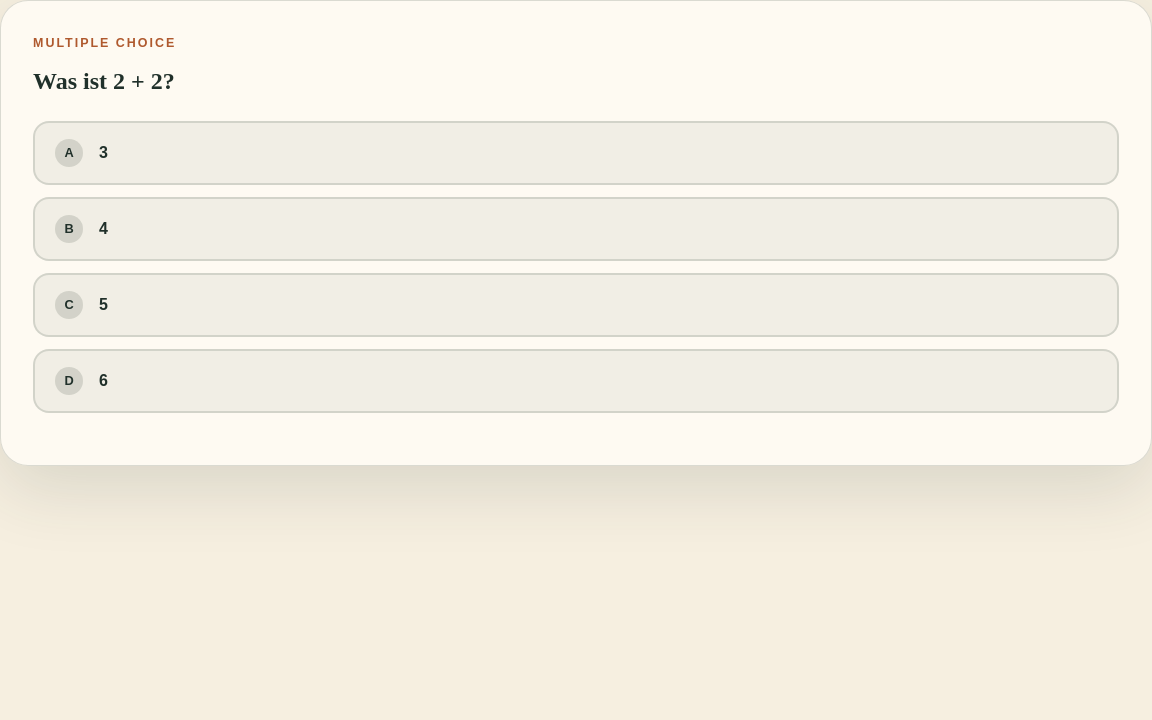
Test: MultipleChoiceCard › zeigt nach falscher Antwort '✗ Leider falsch.'
Click the button "A 3": (69, 153) [33,121,1119,185]
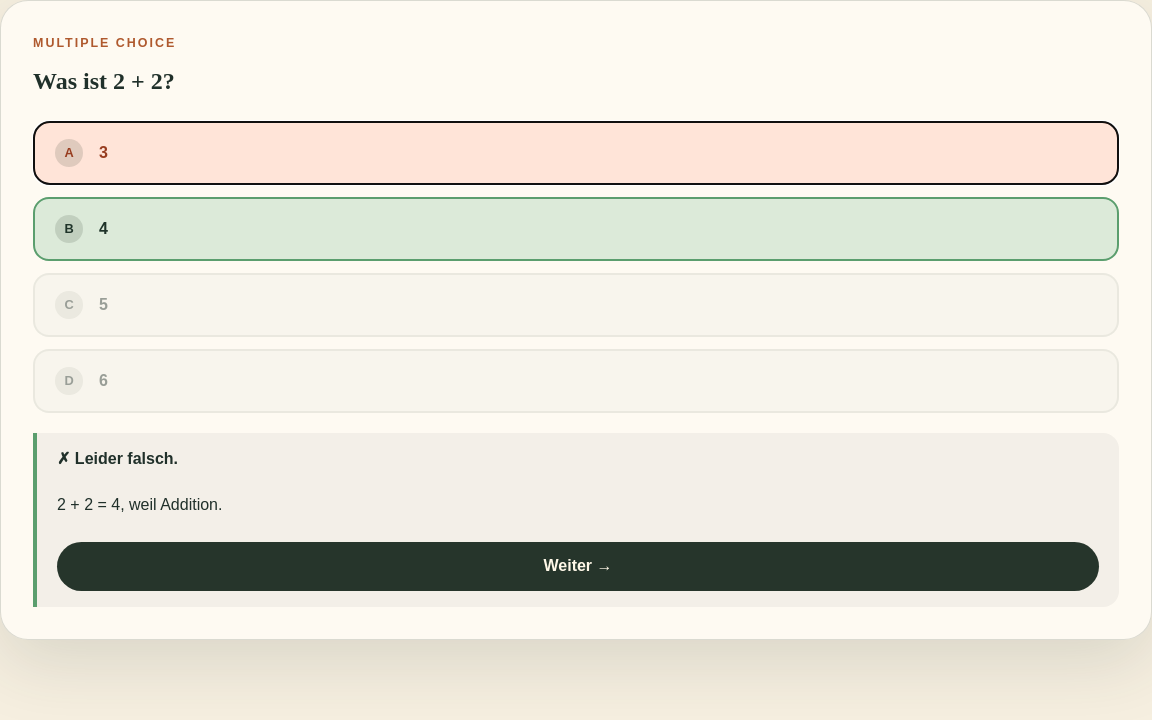
Expected: the text "✗ Leider falsch." is shown, [57,450,178,467]
